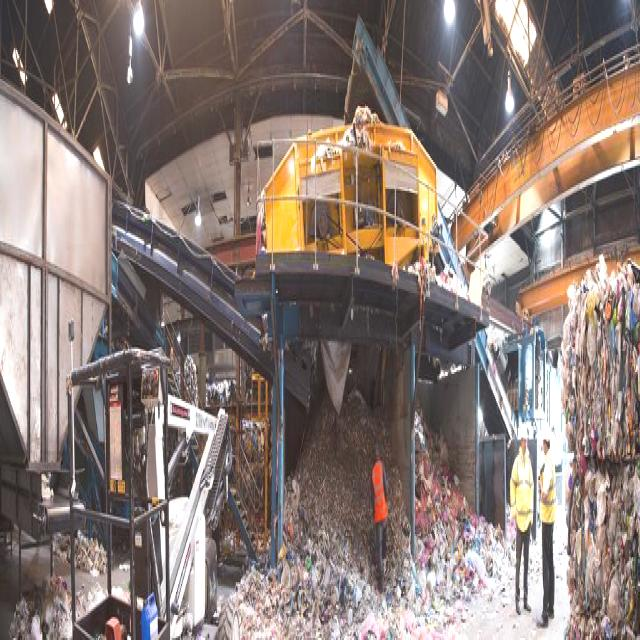person: (509, 426, 535, 619), (534, 420, 557, 632), (370, 443, 390, 596)
shoes: (534, 610, 550, 631), (514, 596, 524, 626), (523, 597, 533, 616)
vest: (509, 444, 533, 544), (370, 461, 390, 526), (539, 447, 554, 532)
